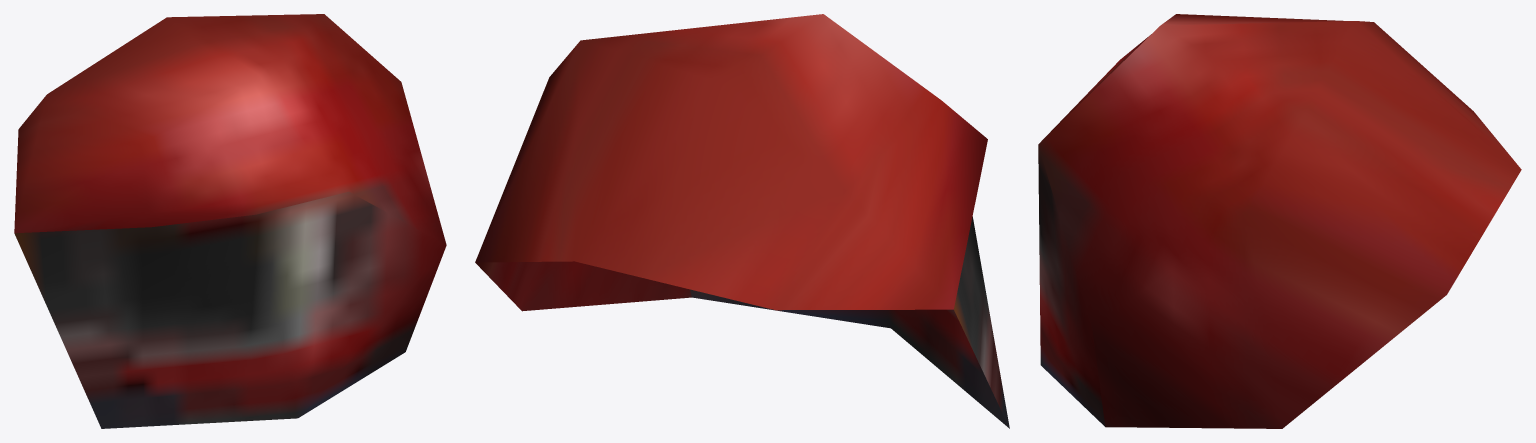
Rendered from fg_wig_out.dae.
3 renders of one model, left to right at view 1: azimuth 30°, elevation 25°; view 2: azimuth 150°, elevation 25°; view 3: azimuth 270°, elevation 25°, orthographic. The views are drawn at different scales.
Visible parts, largest first — view 1: fg_wig_out; view 2: fg_wig_out; view 3: fg_wig_out.
Part boxes in pixels (bbox=[...]): fg_wig_out: bbox=[14, 14, 446, 428]; fg_wig_out: bbox=[475, 14, 1009, 428]; fg_wig_out: bbox=[1038, 14, 1521, 428].
Bounding box in the file's own units: 16.09 × 13.04 × 15.88.
Materials: 1 (1 with a texture image).
